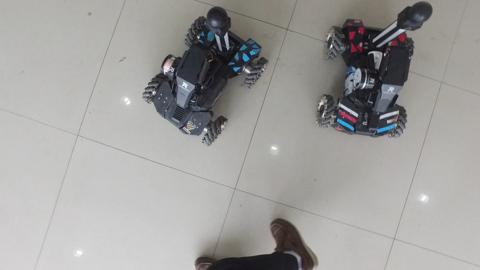chariot: (142, 3, 273, 154), (311, 1, 438, 145)
